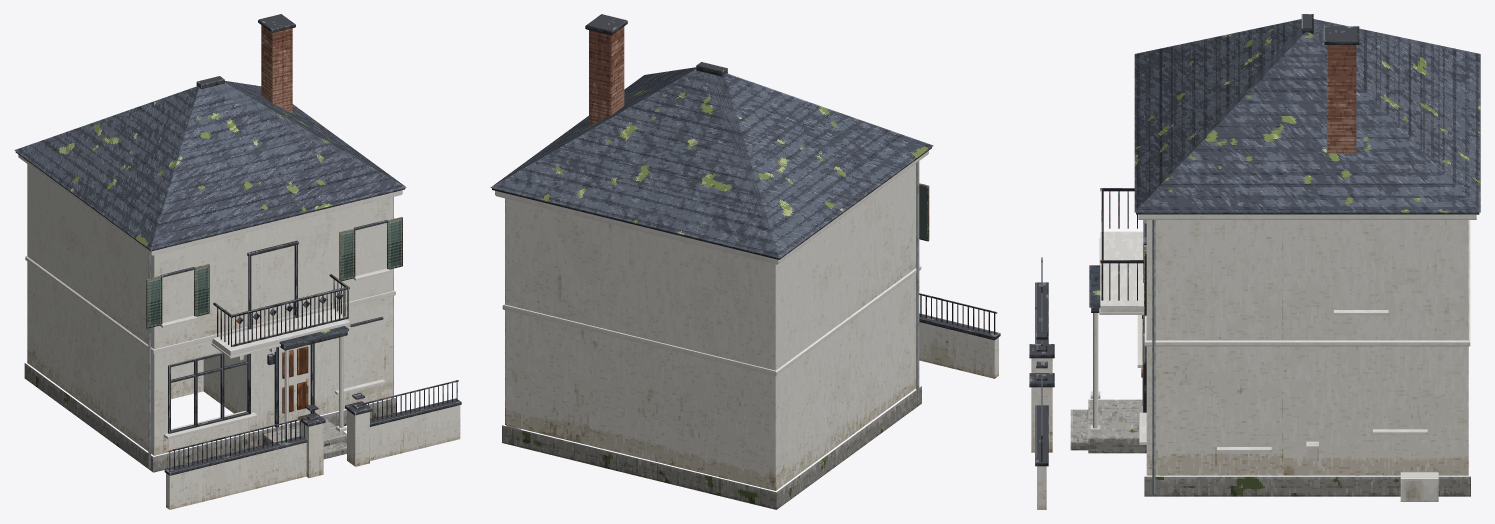
The model's file is villa.glb.
The picture shows the model from 3 angles, left to right: view 1: azimuth 30°, elevation 25°; view 2: azimuth 150°, elevation 25°; view 3: azimuth 270°, elevation 25°; orthographic projection. The views are drawn at different scales.
Parts seen in each view (by area): view 1: villa; view 2: villa; view 3: villa.
Part boxes in pixels (x1,y1,x2,y2): villa: [14, 14, 461, 509]; villa: [490, 14, 1000, 509]; villa: [1029, 14, 1480, 509].
Size of the model in its own units: 8.77 by 9.9 by 9.26.
Materials: 1 (1 with a texture image).
